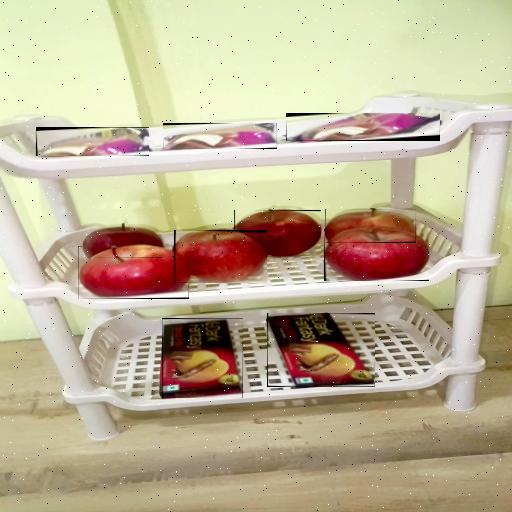Apple: (78, 246, 189, 299), (324, 229, 429, 281), (174, 230, 267, 283), (234, 210, 321, 258), (325, 209, 416, 243), (82, 224, 162, 258)
Choco Fills: (267, 313, 375, 387), (162, 318, 243, 398)
Choco Pie: (286, 113, 440, 141), (36, 127, 149, 156), (163, 123, 277, 149)
